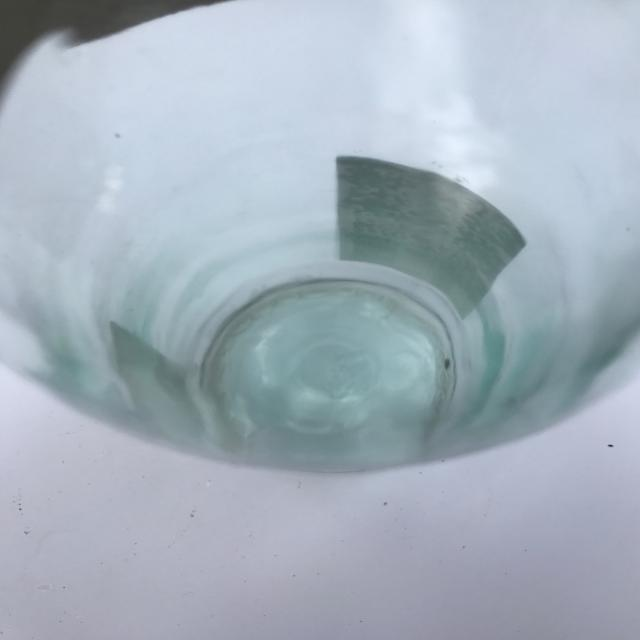glass: (0, 0, 640, 475)
